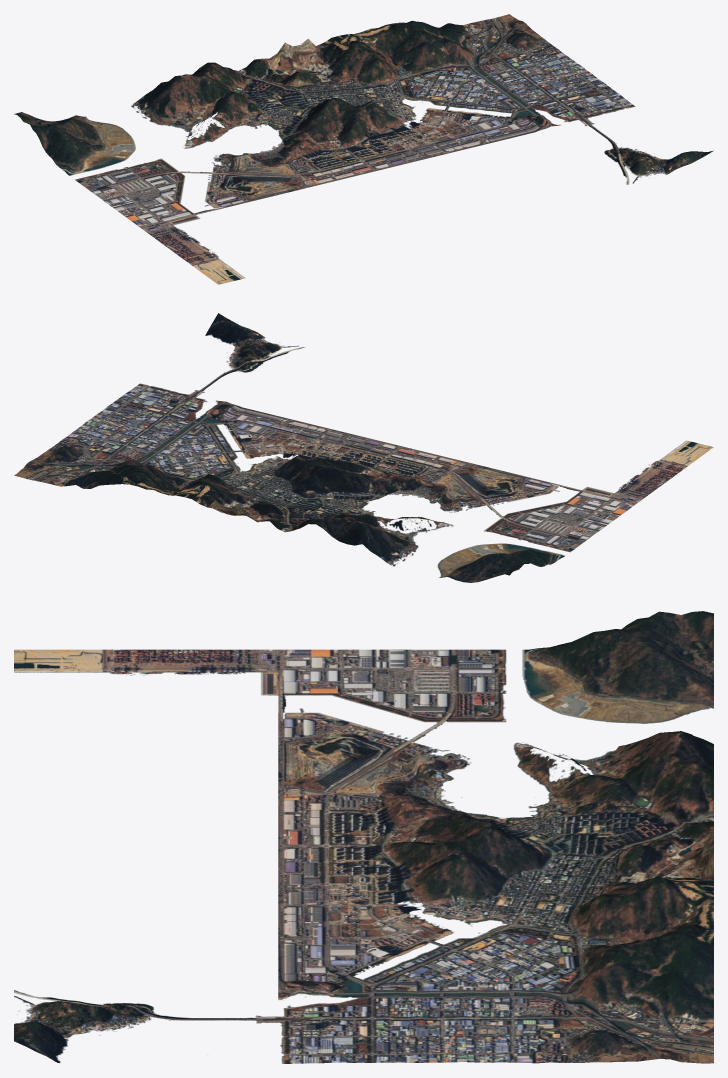
The model's file is busan_geometry.glb.
The picture shows the model from 3 angles, top to bottom: view 1: azimuth 30°, elevation 25°; view 2: azimuth 150°, elevation 25°; view 3: azimuth 270°, elevation 25°; orthographic projection. The views are drawn at different scales.
Parts seen in each view (by area): view 1: EXPORT_GOOGLE_SAT_WM.001; view 2: EXPORT_GOOGLE_SAT_WM.001; view 3: EXPORT_GOOGLE_SAT_WM.001.
Boxes of the visible parts, x1=… form: EXPORT_GOOGLE_SAT_WM.001: x1=14, y1=14, x2=713, y2=284; EXPORT_GOOGLE_SAT_WM.001: x1=14, y1=313, x2=713, y2=582; EXPORT_GOOGLE_SAT_WM.001: x1=14, y1=611, x2=713, y2=1063.
Size of the model in its own units: 8561 by 476 by 6115.
1 material, 1 textured.
